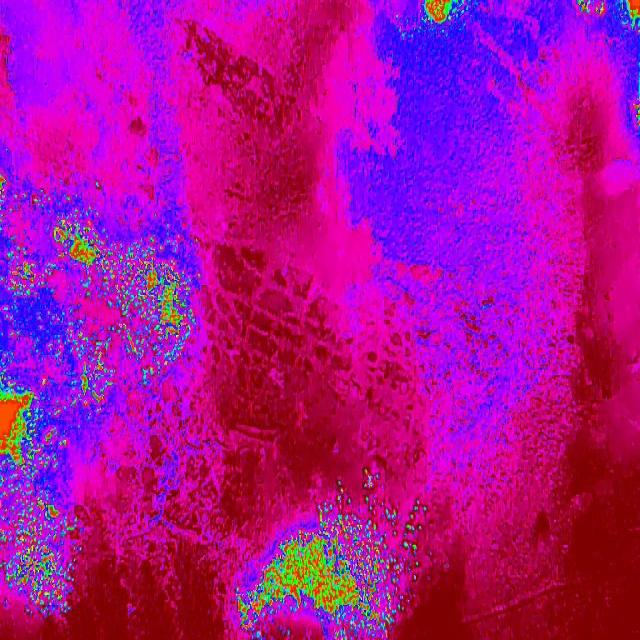fire: (0, 172, 93, 616), (92, 208, 208, 426), (228, 529, 388, 640), (388, 498, 427, 624), (316, 470, 390, 530), (409, 0, 472, 40), (571, 0, 640, 35)
